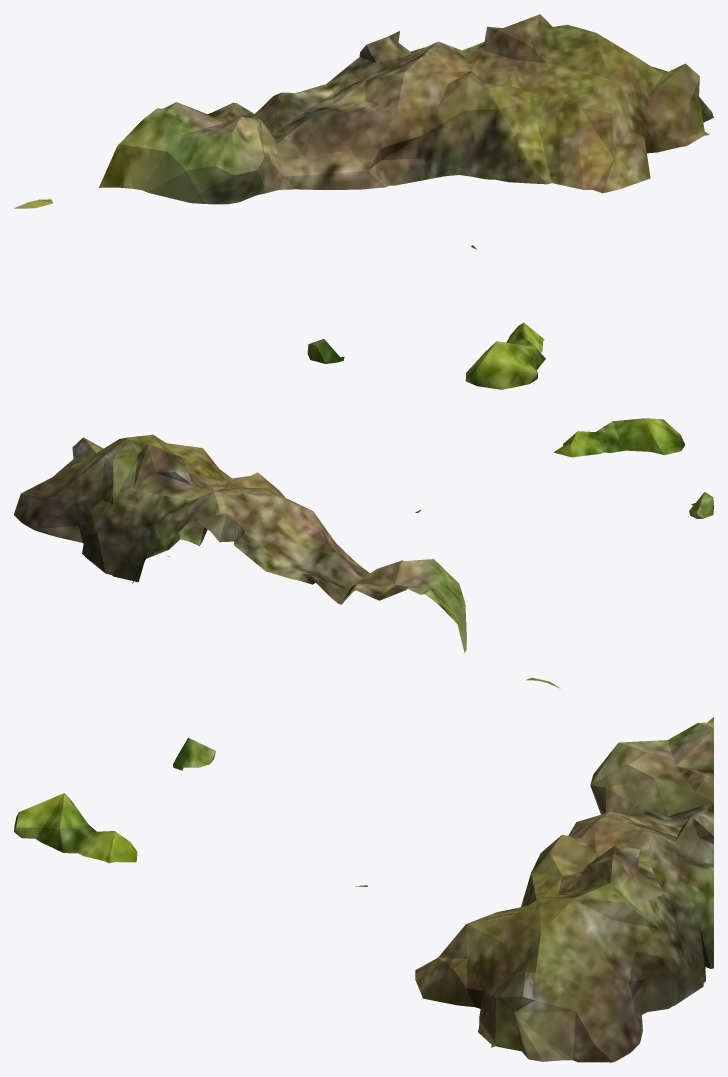
The picture shows the model from 3 angles, top to bottom: view 1: azimuth 30°, elevation 25°; view 2: azimuth 150°, elevation 25°; view 3: azimuth 270°, elevation 25°; orthographic projection. The views are drawn at different scales.
Bounding box in the file's own units: 4.47 × 0.7499 × 3.83.
1 material, 1 textured.
